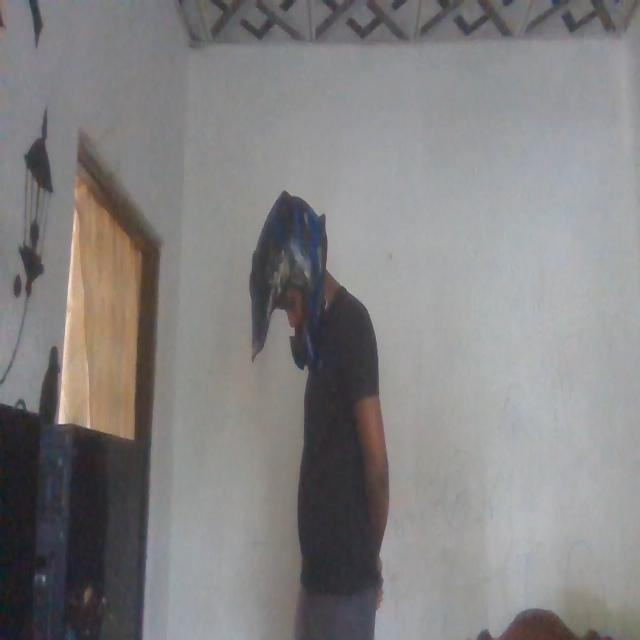Helmet_Wearer: (243, 190, 333, 378)
Person: (244, 190, 390, 640)
